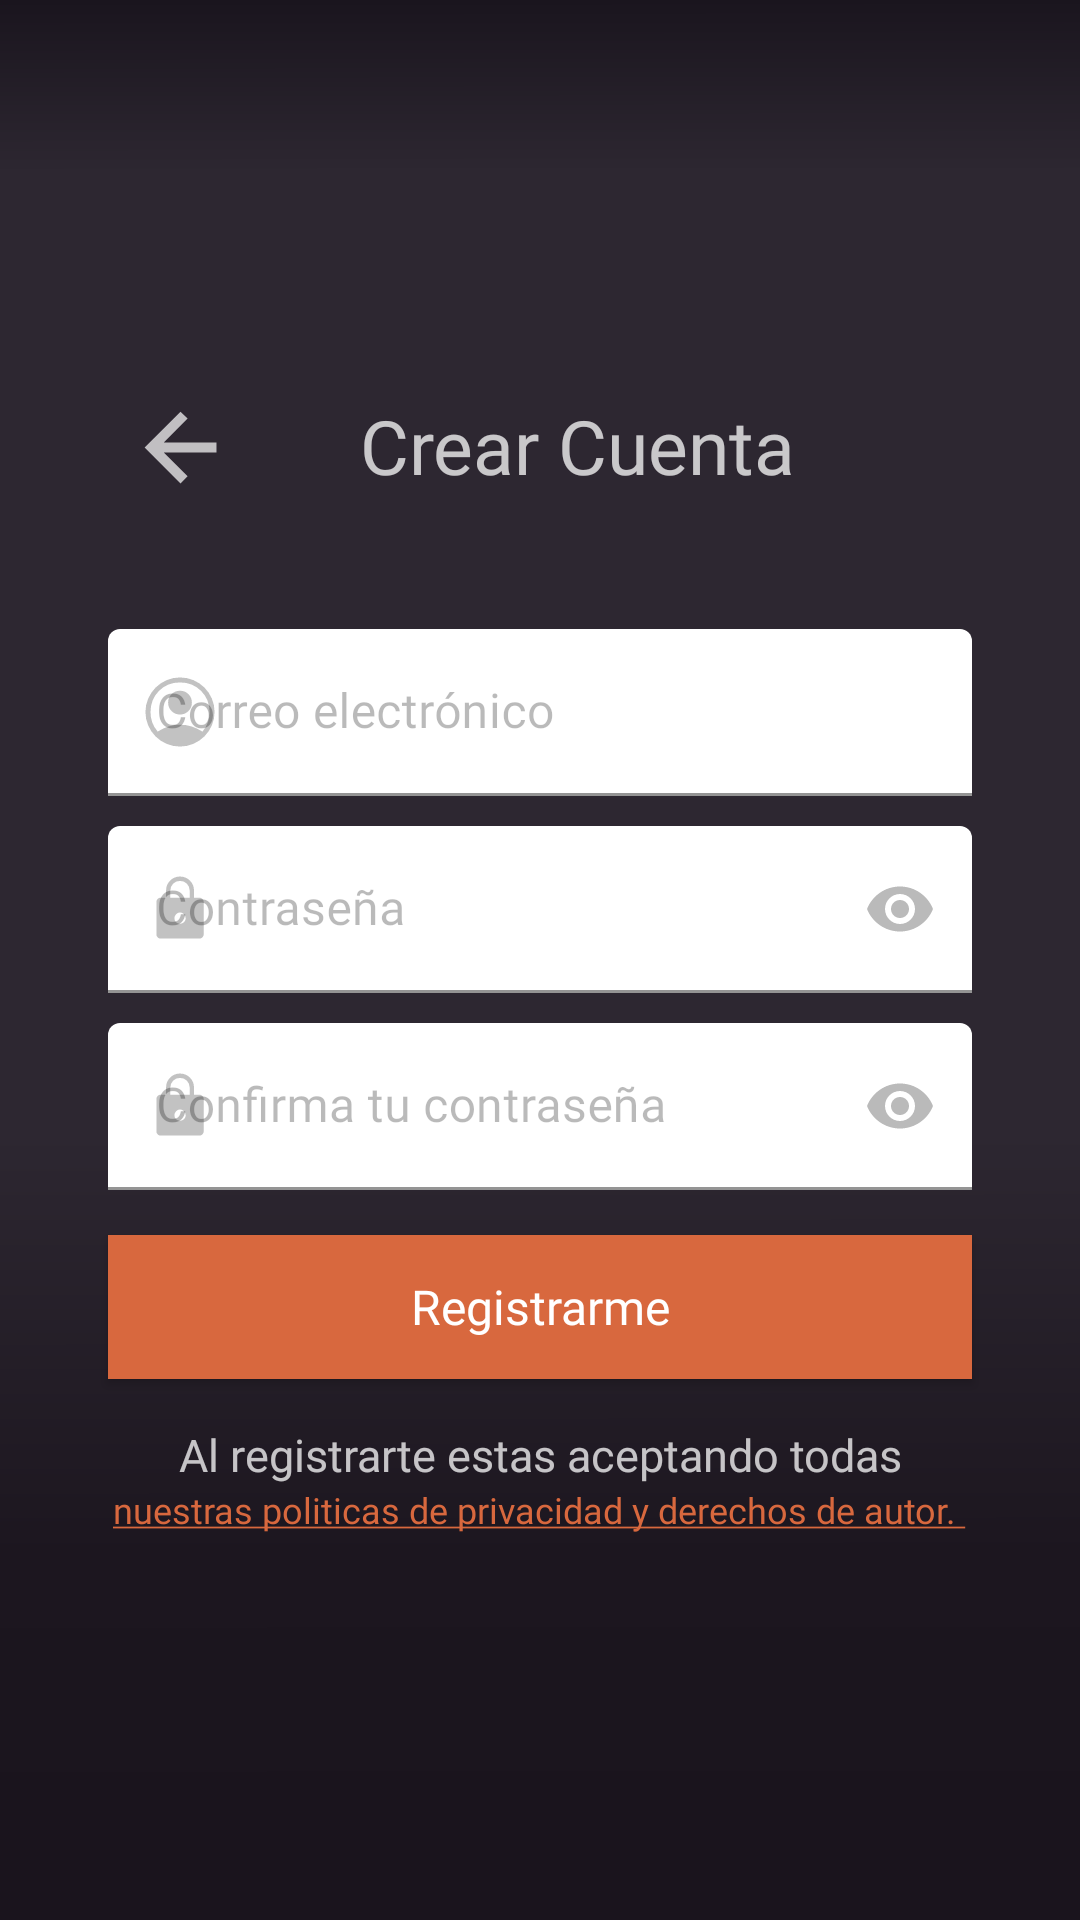

Named icons in this screenshot (1080px x 1920px) and their centers, point (x, y):
arrow back: point (181, 448)
